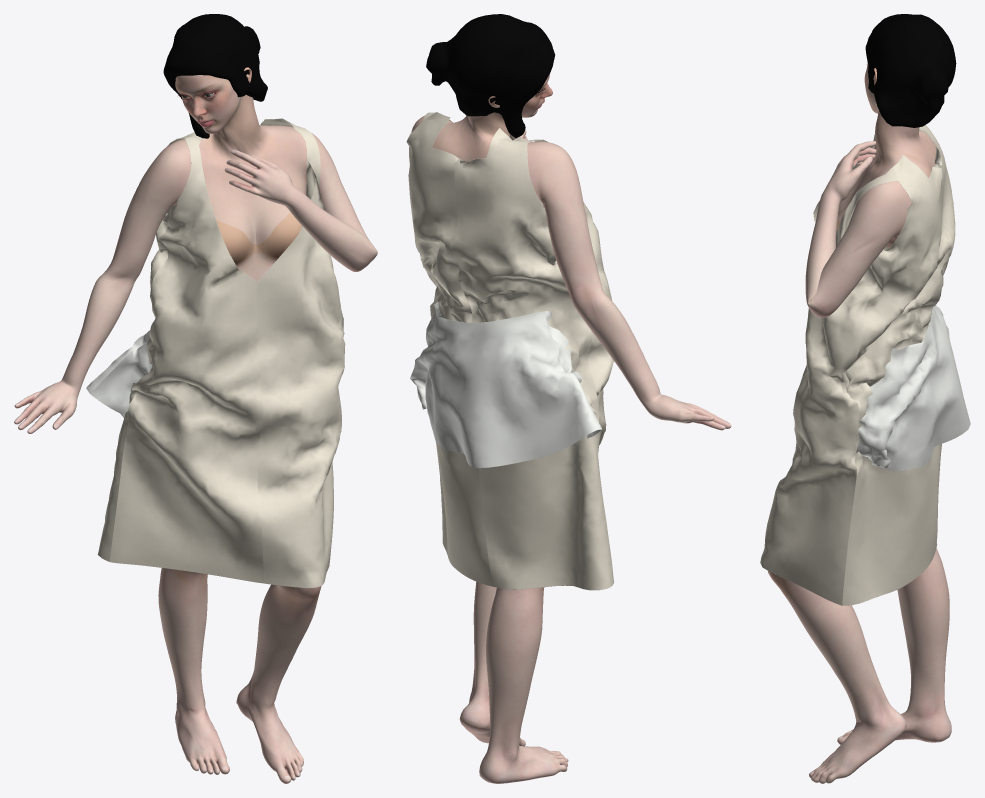
Rendered from Dynamic_2.obj.
The picture shows the model from 3 angles, left to right: view 1: azimuth 30°, elevation 25°; view 2: azimuth 150°, elevation 25°; view 3: azimuth 270°, elevation 25°; orthographic projection. The views are drawn at different scales.
Size of the model in its own units: 813 by 1767 by 451.
